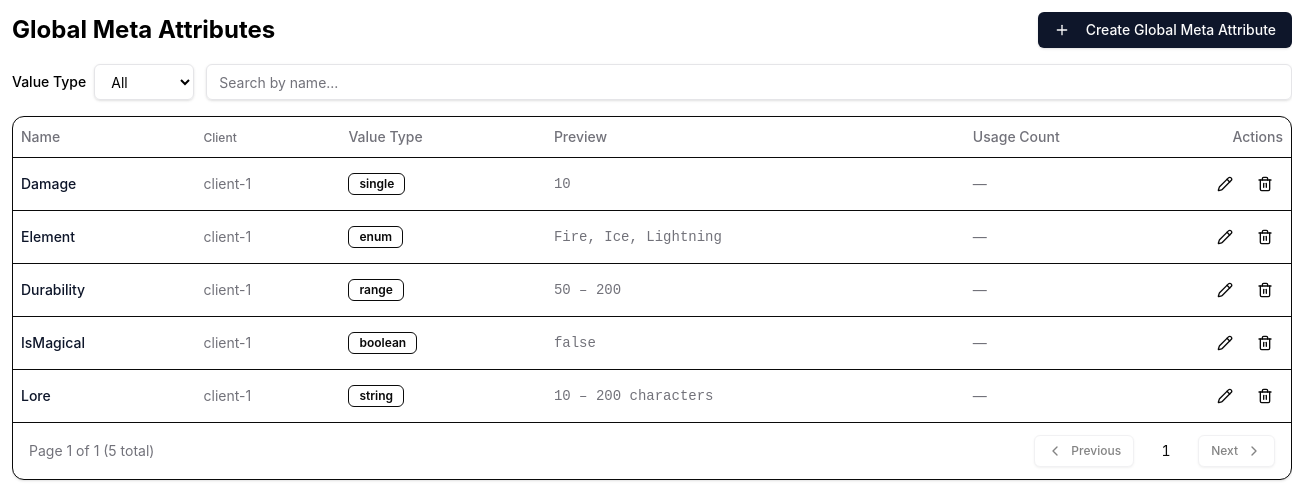
Scenario: GlobalMetaAttributes list page › filters by value type
The image size is (1304, 498).
Select "Enum" in the dropdown labelled "Value Type": (144, 82) left=94, top=64, right=194, bottom=100
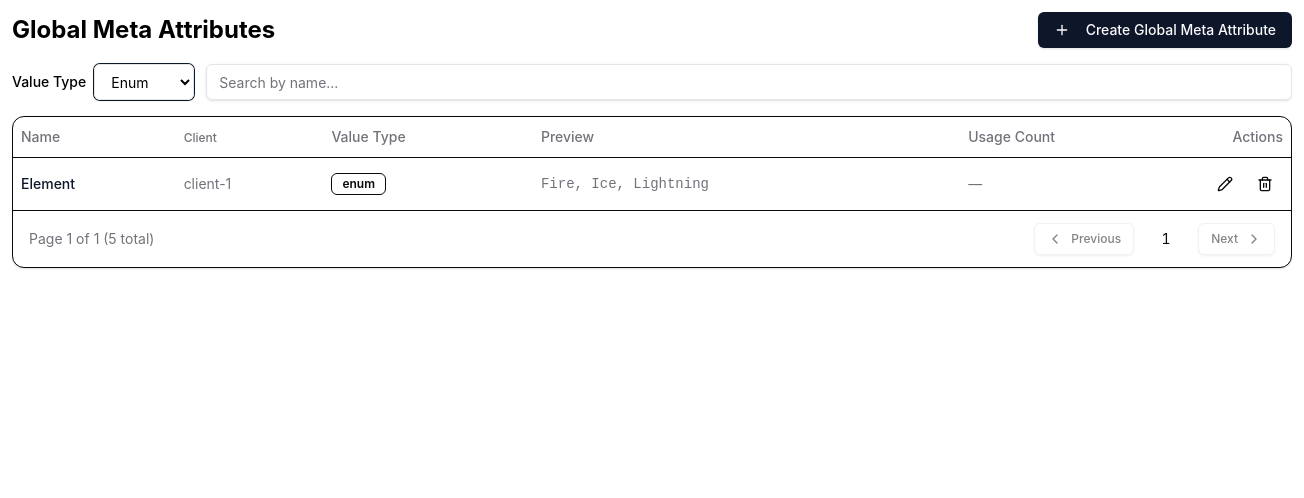
Result: no links "Damage" are shown
